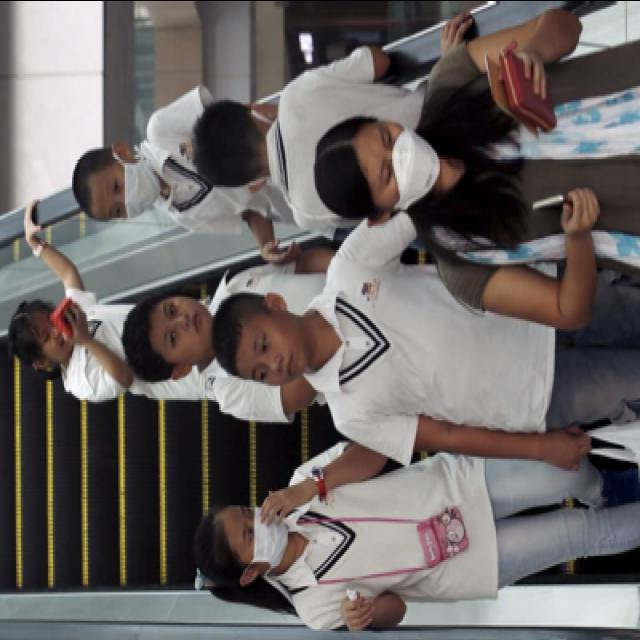mask: (372, 117, 442, 210), (101, 158, 157, 223), (237, 502, 288, 569)
no_mask: (248, 320, 309, 389), (158, 294, 214, 364), (38, 306, 72, 366)
